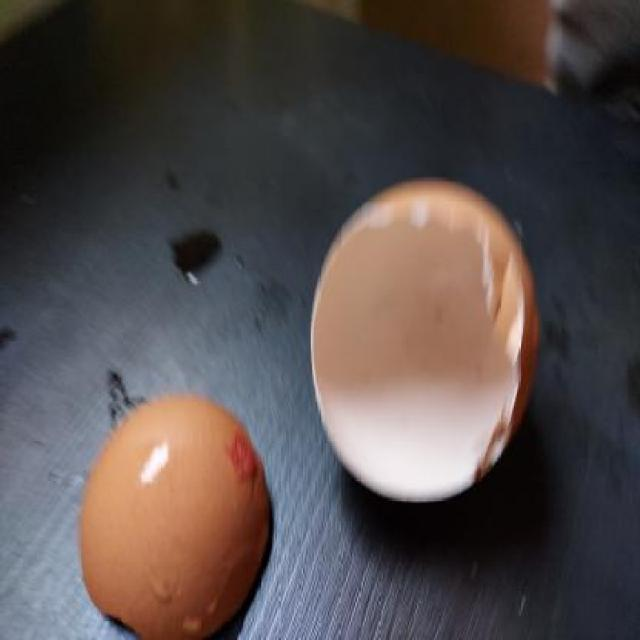biodegradable: (304, 178, 546, 510), (72, 391, 277, 640)
